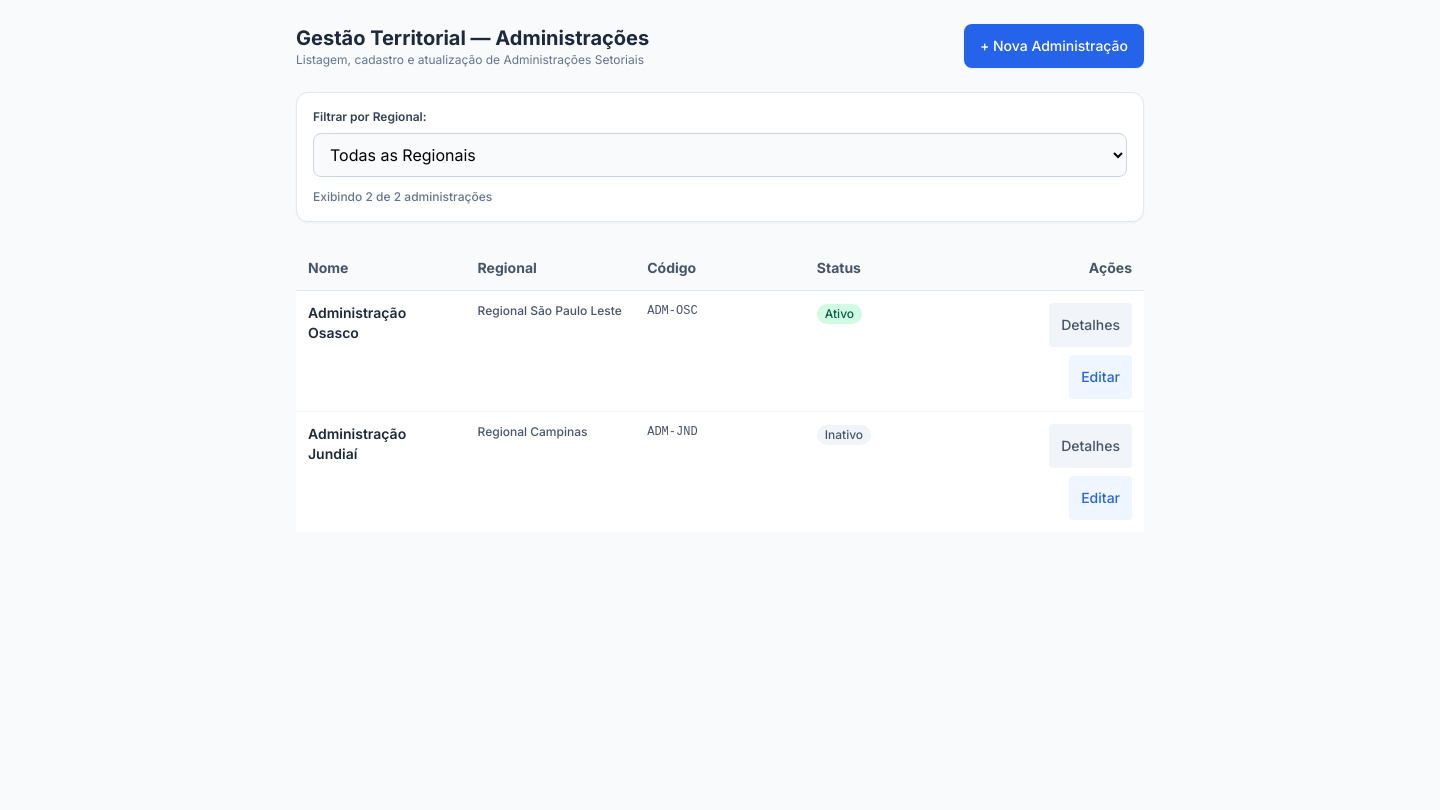
Test: S01 — AdministracoesView (Gestão Territorial Frontend) › 5. Detalhar: deve carregar e exibir os detalhes da administração ao clicar em Detalhes
This screenshot has width=1440, height=810.
Click the button "Detalhes" in the row of "Administração Osasco" at (1091, 325), box [1049,303,1132,347]
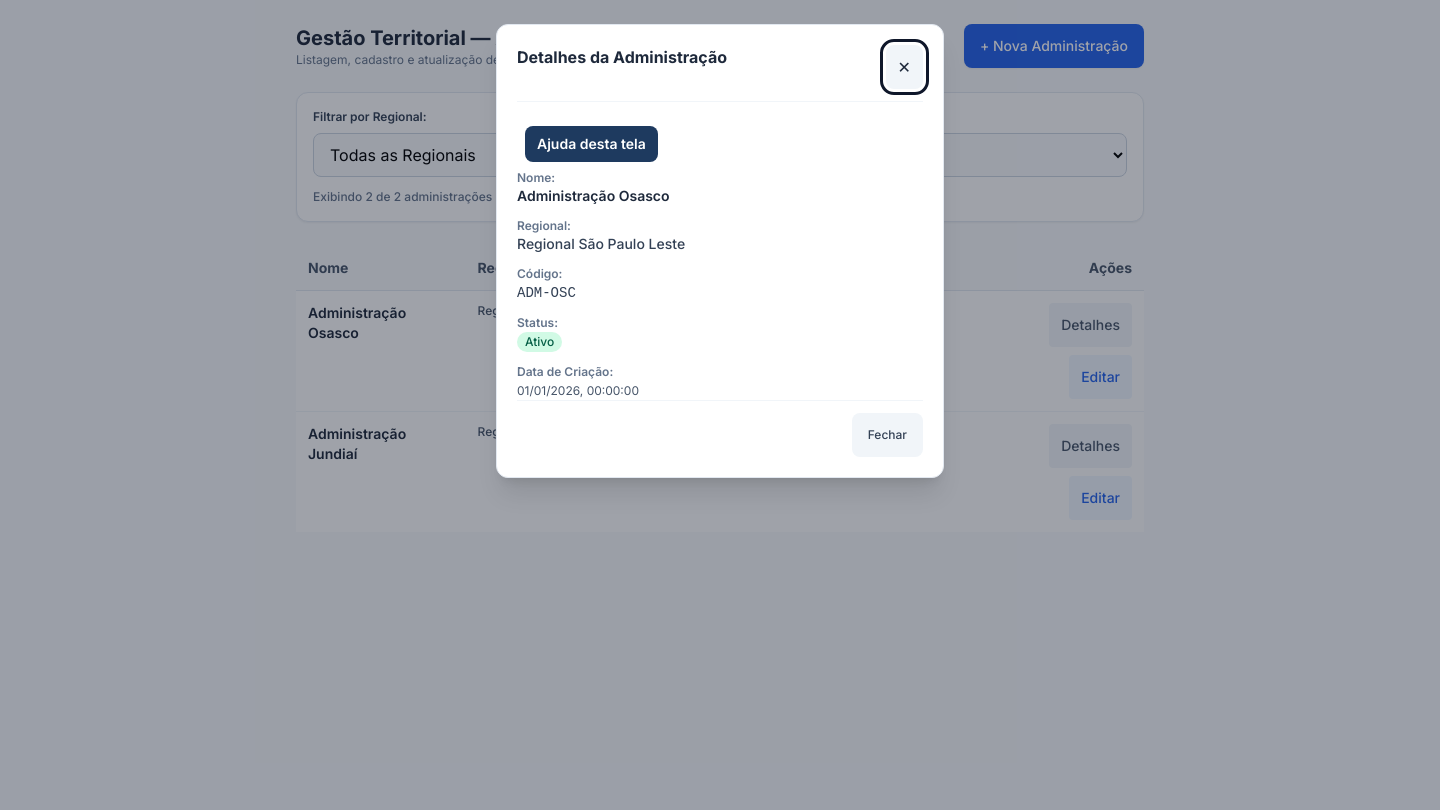
Now the heading "Detalhes da Administração" is shown, box [517,45,727,69]
